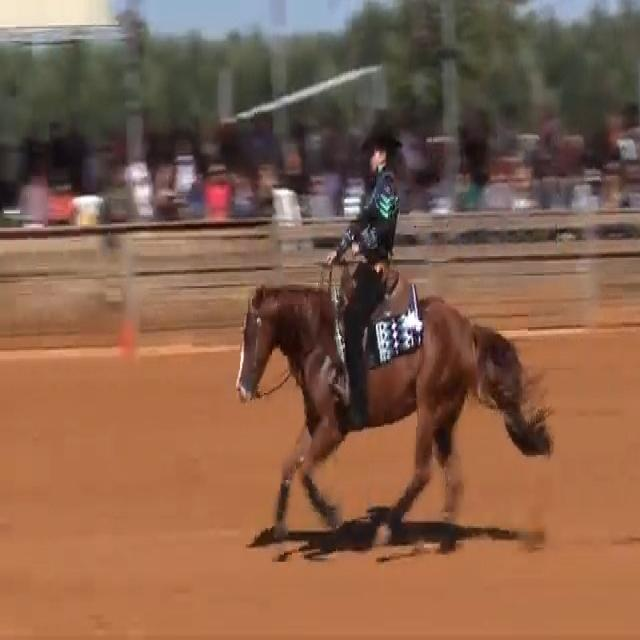horse: (233, 272, 553, 542)
